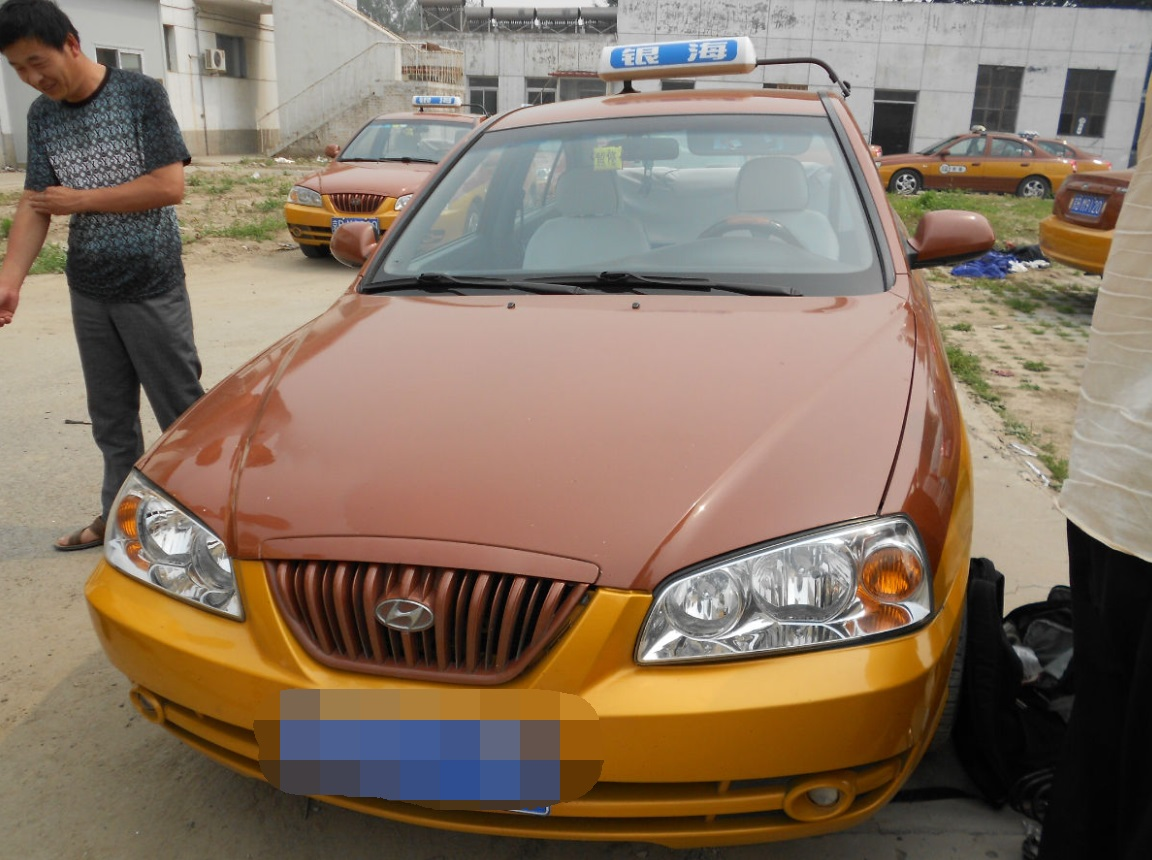taxi: (93, 35, 999, 840)
